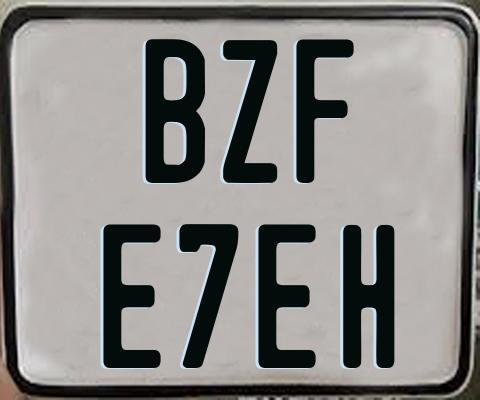7: (179, 224, 241, 371)
B: (145, 39, 208, 185)
E: (100, 222, 164, 372), (255, 224, 319, 370)
F: (293, 39, 351, 183)
H: (343, 225, 395, 370)
Z: (220, 38, 276, 184)
